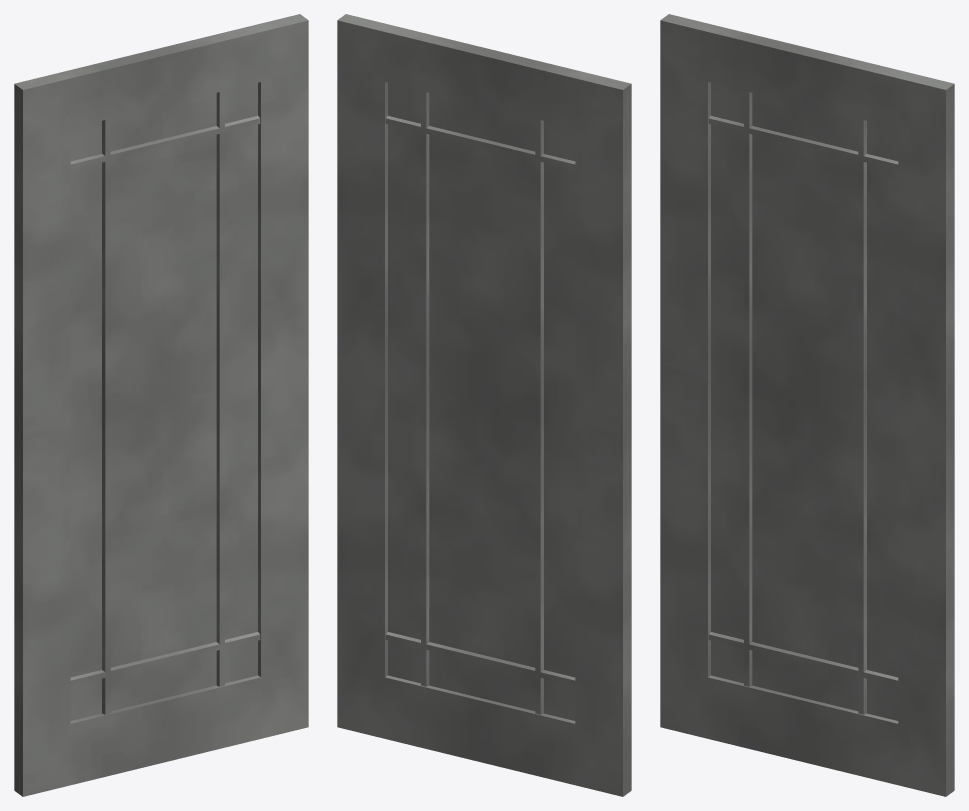
Rendered from door_flush.glb.
3 renders of one model, left to right at view 1: azimuth 30°, elevation 25°; view 2: azimuth 150°, elevation 25°; view 3: azimuth 330°, elevation 25°, orthographic.
Parts seen in each view (by area): view 1: door_flush; view 2: door_flush; view 3: door_flush.
Part boxes in pixels (<box>): door_flush: <box>14,14,308,796</box>; door_flush: <box>337,14,631,796</box>; door_flush: <box>660,14,954,796</box>.
Bounding box in the file's own units: 0.838 × 1.98 × 0.044.
1 material, 1 textured.
